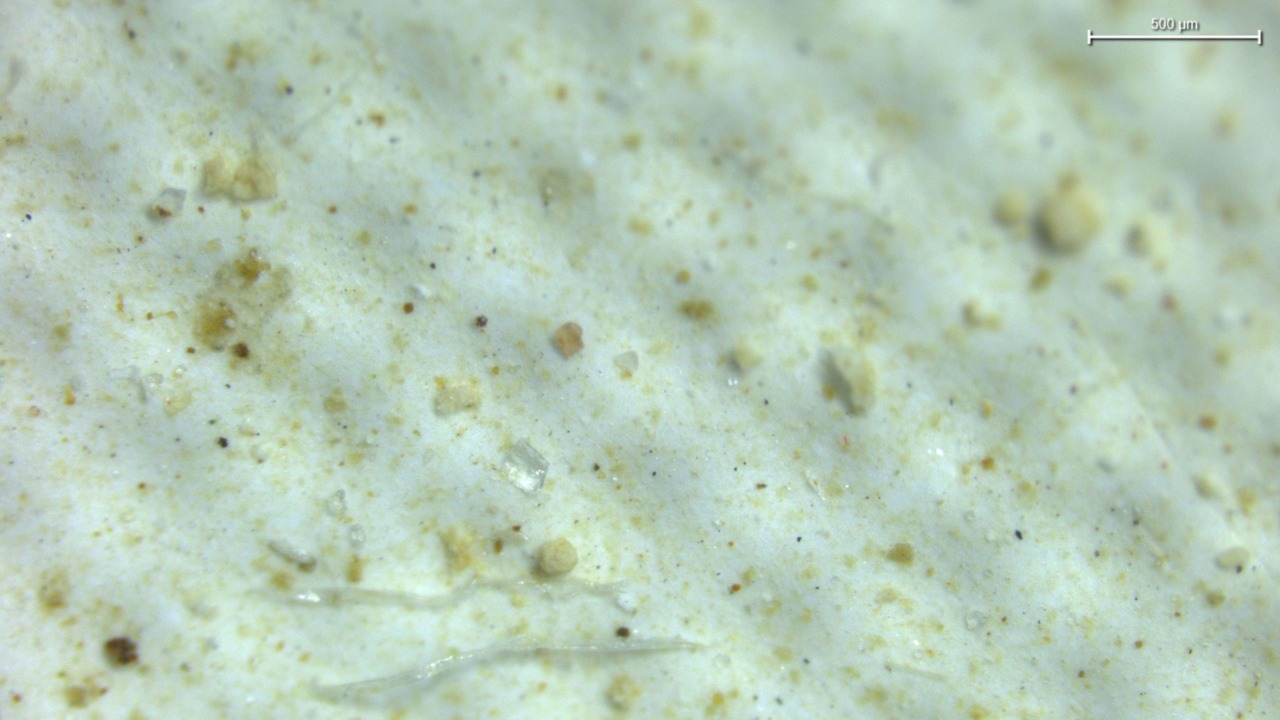microplastic_fragment: (503, 440, 548, 492)
